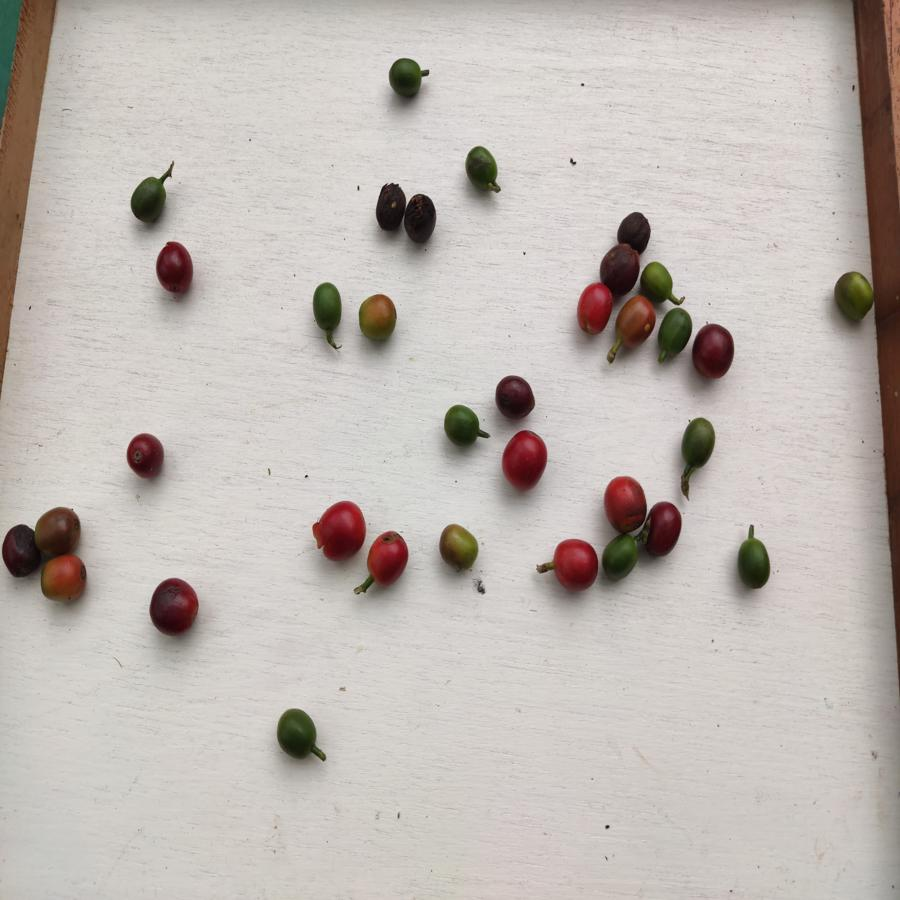Inmaduro: (829, 269, 879, 324), (273, 706, 320, 760), (679, 415, 718, 476), (736, 529, 774, 591), (126, 175, 167, 226), (601, 533, 641, 585), (440, 403, 482, 451), (656, 307, 694, 359), (310, 281, 344, 335), (464, 146, 500, 195), (386, 56, 426, 99), (642, 260, 679, 303)
Maduro: (309, 499, 367, 567), (498, 430, 550, 494), (549, 534, 599, 595), (366, 526, 412, 588), (601, 475, 645, 532), (575, 279, 612, 338)
Pinton: (613, 292, 657, 352), (40, 556, 90, 607), (436, 521, 481, 574), (355, 294, 401, 343)
Sobremaduro: (149, 576, 201, 639), (643, 500, 686, 569), (29, 505, 85, 551), (694, 323, 736, 383), (154, 241, 196, 299), (1, 521, 39, 580), (404, 190, 440, 249), (599, 244, 641, 293), (123, 431, 165, 477), (613, 210, 656, 253), (496, 374, 536, 420), (374, 181, 404, 239)
